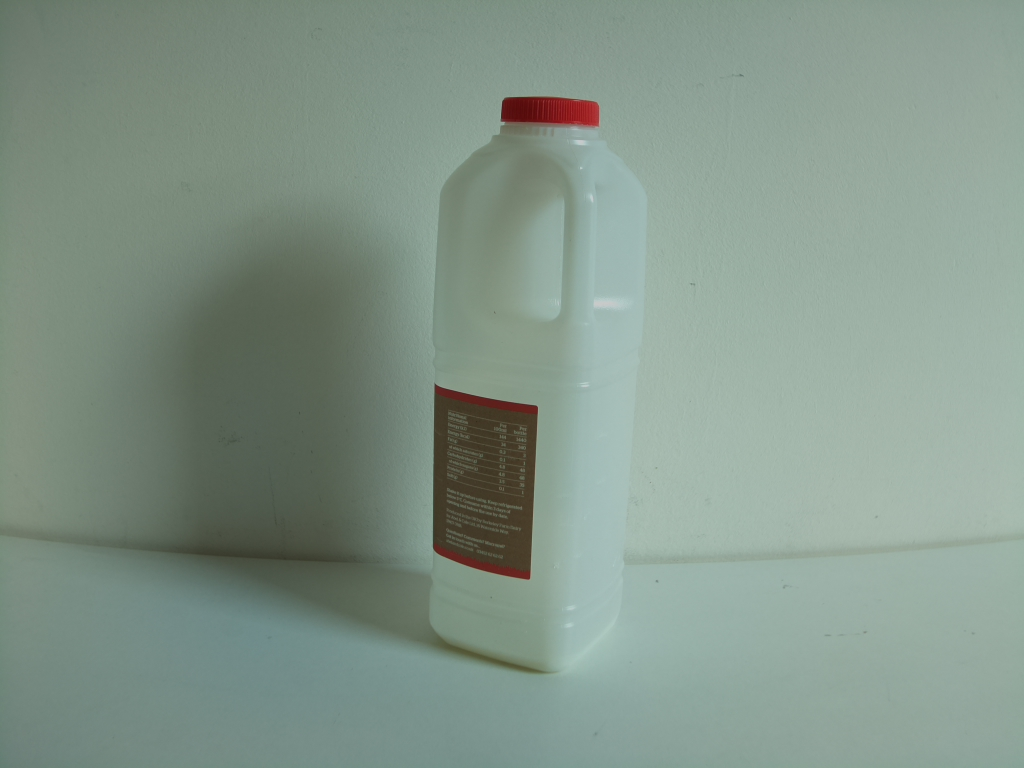milk: (429, 94, 652, 680)
